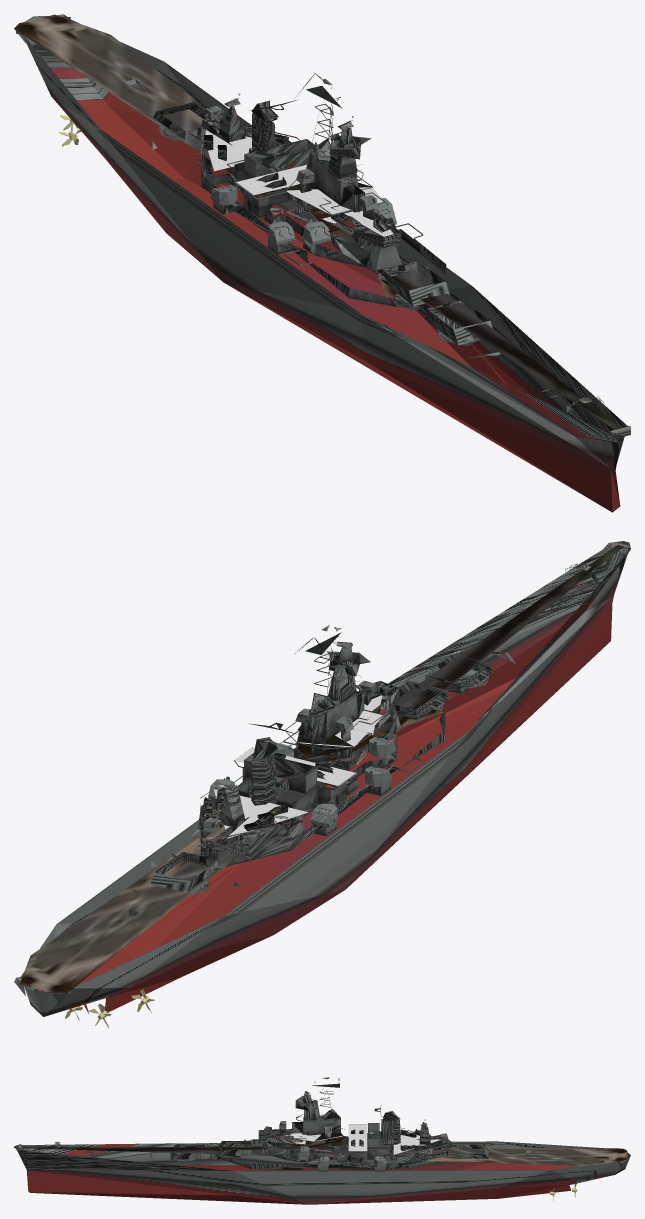
The picture shows the model from 3 angles, top to bottom: view 1: azimuth 30°, elevation 25°; view 2: azimuth 150°, elevation 25°; view 3: azimuth 270°, elevation 25°; orthographic projection. The views are drawn at different scales.
Parts seen in each view (by area): view 1: Object_12, Object_16, Object_2, Object_8, Object_3, Object_17; view 2: Object_12, Object_16, Object_2, Object_8, Object_3, Object_17; view 3: Object_12, Object_16, Object_2, Object_8, Object_3.
Boxes of the visible parts, box(x1,y1,x2,y2) form: Object_12: box(14, 14, 630, 512); Object_16: box(14, 14, 628, 435); Object_2: box(205, 130, 393, 236); Object_8: box(210, 183, 396, 244); Object_3: box(203, 123, 289, 194); Object_17: box(204, 106, 378, 210); Object_12: box(14, 541, 630, 1016); Object_16: box(19, 545, 623, 993); Object_2: box(213, 695, 383, 838); Object_8: box(208, 734, 395, 827); Object_3: box(203, 753, 333, 831); Object_17: box(203, 680, 377, 833); Object_12: box(14, 1078, 630, 1204); Object_16: box(21, 1132, 627, 1165); Object_2: box(284, 1125, 440, 1154); Object_8: box(292, 1131, 392, 1167); Object_3: box(351, 1129, 430, 1151).
Bounding box in the file's own units: 21.84 × 43.83 × 180.
10 materials, 8 textured.
